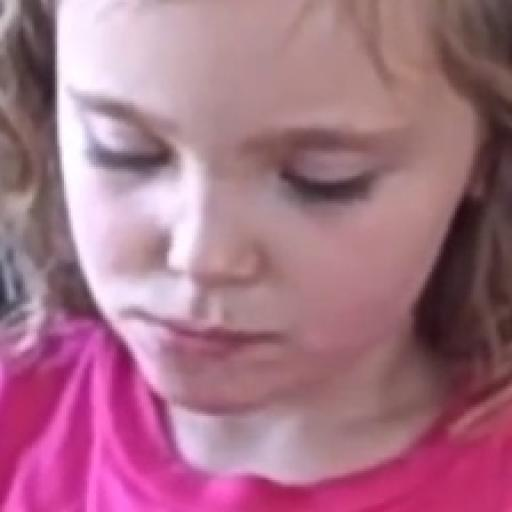Autism: (43, 16, 512, 446)
